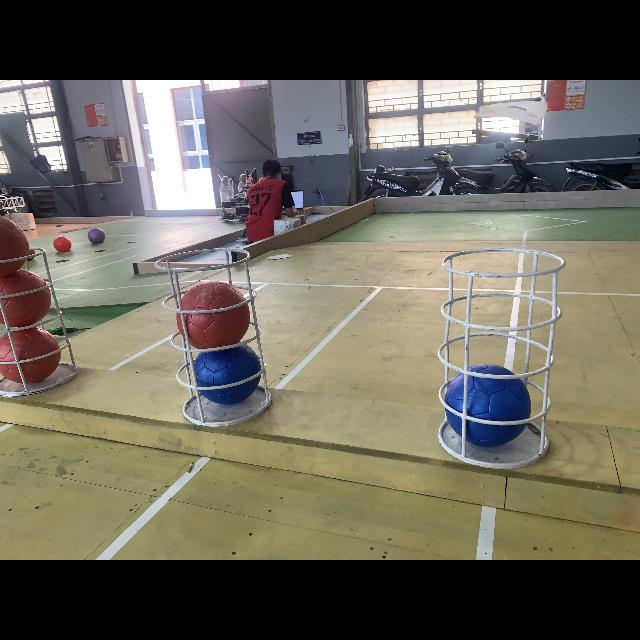B: (444, 364, 532, 448), (192, 341, 262, 407)
R: (177, 281, 253, 351), (0, 327, 62, 383), (1, 270, 54, 326), (1, 214, 32, 278)
